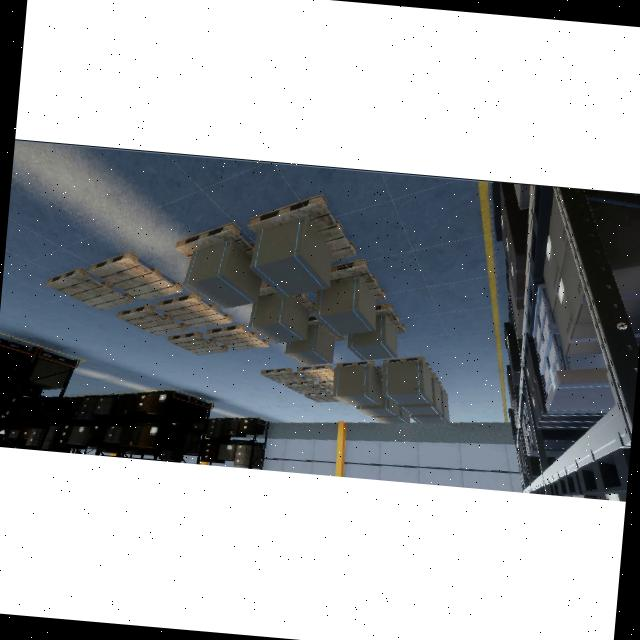wooden_pallet: (247, 192, 358, 263), (86, 253, 183, 302), (45, 269, 133, 312), (174, 222, 255, 260), (157, 294, 232, 330), (329, 259, 388, 303), (116, 303, 189, 336), (206, 325, 270, 351), (166, 331, 228, 357), (382, 355, 433, 375), (375, 303, 406, 333), (260, 367, 306, 384), (335, 361, 382, 376), (296, 365, 334, 381), (285, 381, 326, 395), (302, 392, 341, 402), (317, 380, 333, 393)
